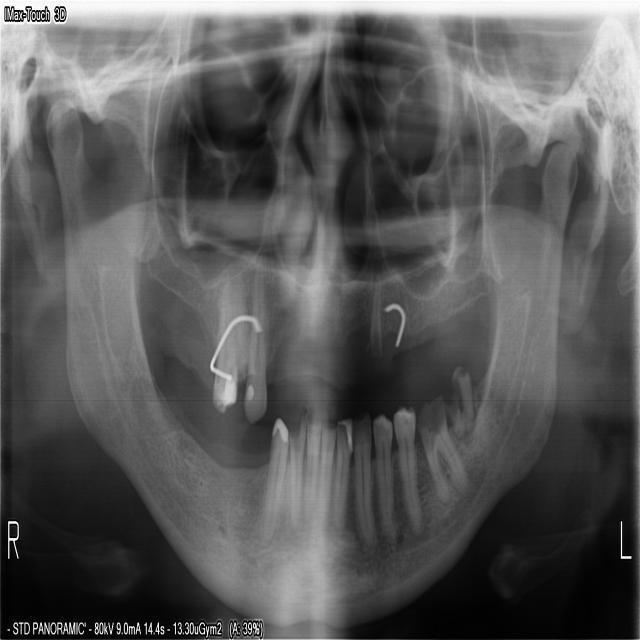LCD: (352, 407, 377, 549)
LID: (332, 415, 353, 533), (316, 421, 336, 530)
LMD: (415, 390, 469, 511)
LPMD: (392, 401, 424, 535), (372, 408, 397, 545)
RCD: (256, 413, 286, 550)
RCU: (241, 252, 267, 425)
RID: (300, 416, 321, 526)
RPMU: (209, 268, 236, 415)
